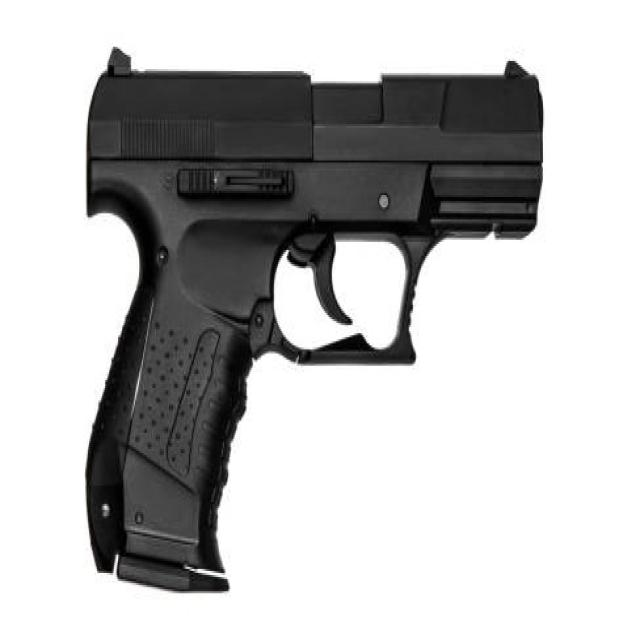pistol: (78, 44, 553, 598)
